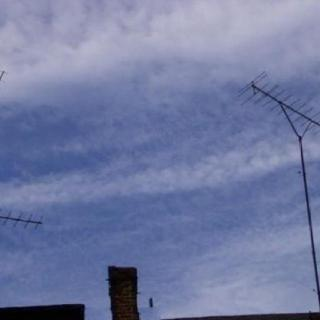Cirrocumulus: (0, 0, 320, 298)
